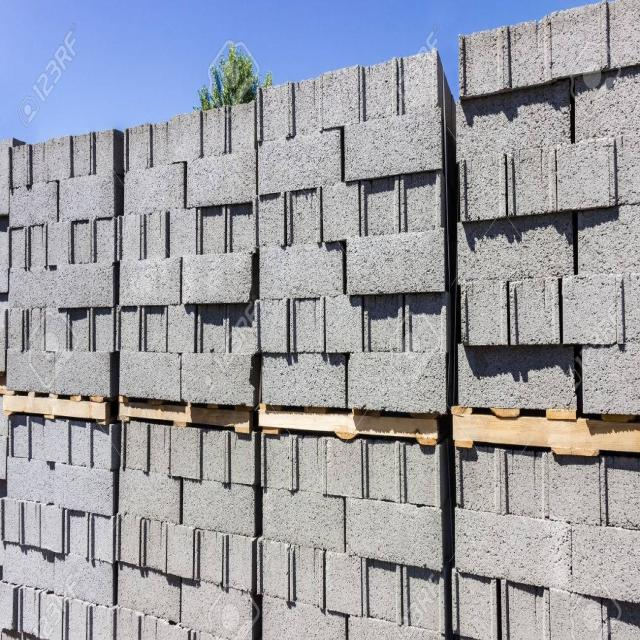bricks: (0, 0, 640, 415), (0, 396, 640, 639), (407, 409, 420, 411)
